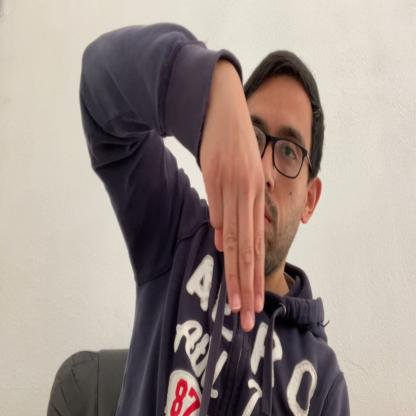M: (201, 59, 265, 333)
